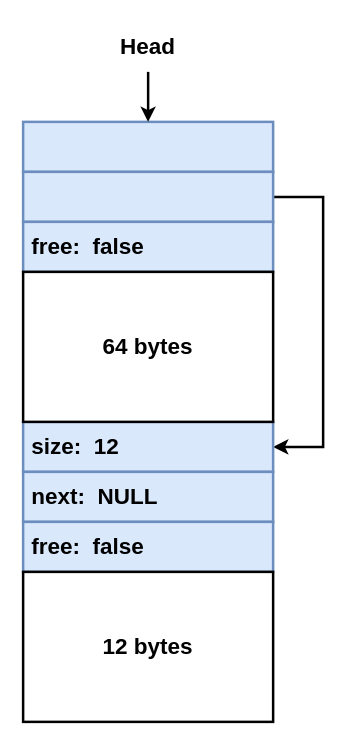
This 355x744 diagram has some shape labels left out. The centre of each missing label's shape, as x and y in pixels:
"next: 88" belongs at pixel 147 196.
"size: 64" belongs at pixel 147 146.
